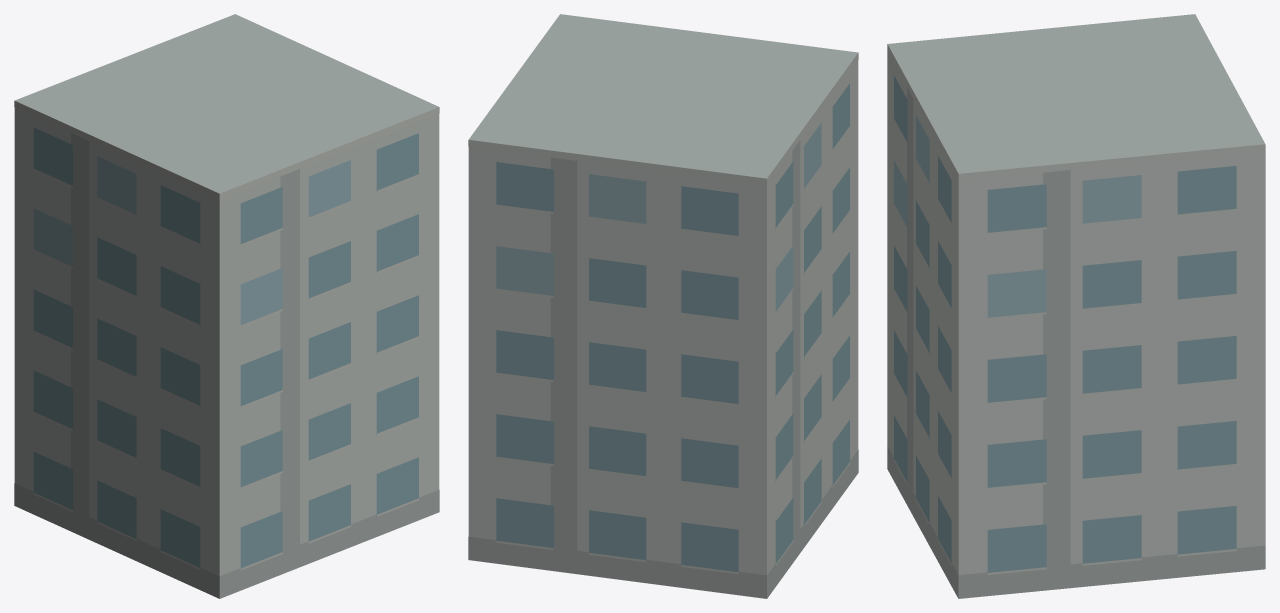
The model's file is survey-upis-32810758.glb.
The picture shows the model from 3 angles, left to right: view 1: azimuth 30°, elevation 25°; view 2: azimuth 150°, elevation 25°; view 3: azimuth 270°, elevation 25°; orthographic projection. The views are drawn at different scales.
Visible parts, largest first — view 1: survey-upis-32810758.tmp; view 2: survey-upis-32810758.tmp; view 3: survey-upis-32810758.tmp.
Part boxes in pixels (x1=…): survey-upis-32810758.tmp: x1=14, y1=14, x2=439, y2=598; survey-upis-32810758.tmp: x1=468, y1=14, x2=858, y2=598; survey-upis-32810758.tmp: x1=887, y1=14, x2=1265, y2=598.
Size of the model in its own units: 11.94 by 14.8 by 11.94.
